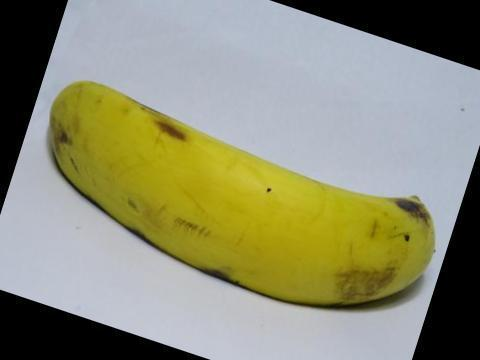freshripe: (26, 62, 446, 320)
